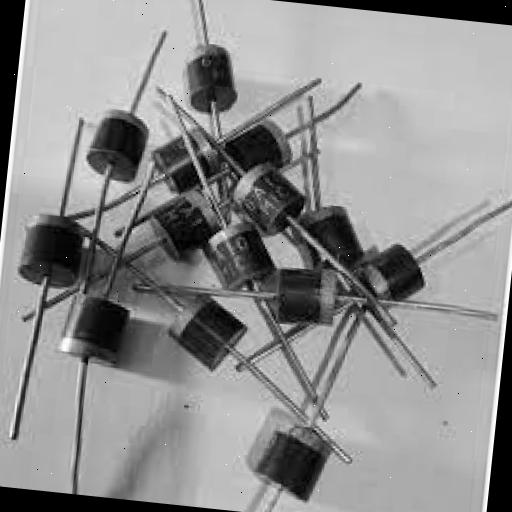DIODE: (0, 0, 512, 512), (152, 290, 279, 401), (248, 396, 370, 510), (158, 30, 268, 148), (348, 220, 454, 339), (56, 265, 150, 390), (79, 87, 173, 203), (120, 181, 232, 275), (224, 148, 326, 236), (189, 213, 297, 296), (265, 249, 355, 337), (14, 198, 99, 291), (294, 181, 369, 270)
